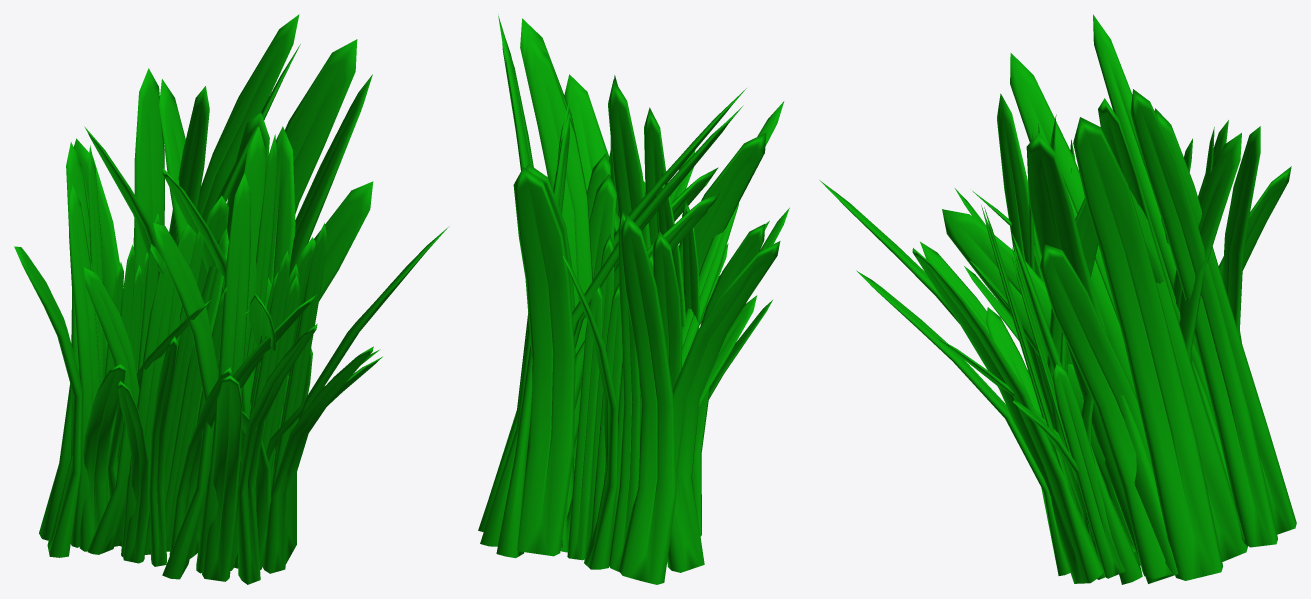
File: obj_Grass_Turn.fbx
The picture shows the model from 3 angles, left to right: view 1: azimuth 30°, elevation 25°; view 2: azimuth 150°, elevation 25°; view 3: azimuth 270°, elevation 25°; orthographic projection. The views are drawn at different scales.
Visible parts, largest first — view 1: Grass5; view 2: Grass5; view 3: Grass5.
Part boxes in pixels (x1,y1,x2,y2): Grass5: [14, 14, 449, 584]; Grass5: [478, 14, 789, 584]; Grass5: [819, 14, 1296, 584].
Size of the model in its own units: 1.25 by 1.9 by 1.58.
